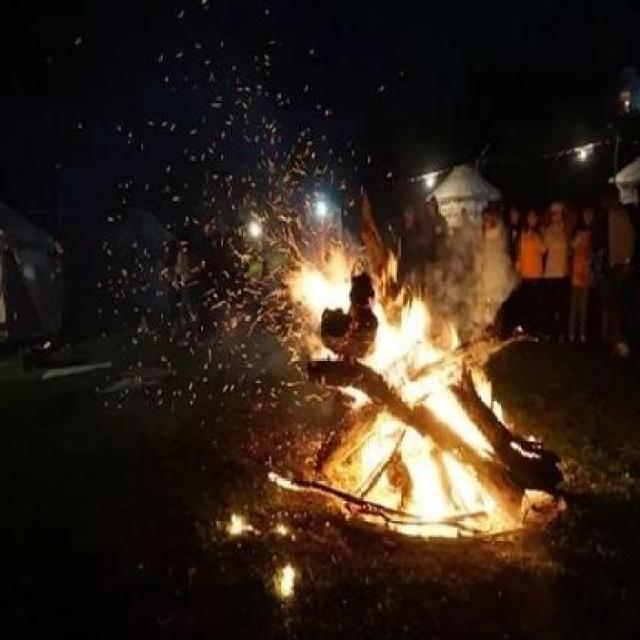Fire: (268, 192, 552, 528), (210, 502, 256, 538), (268, 559, 299, 608)
